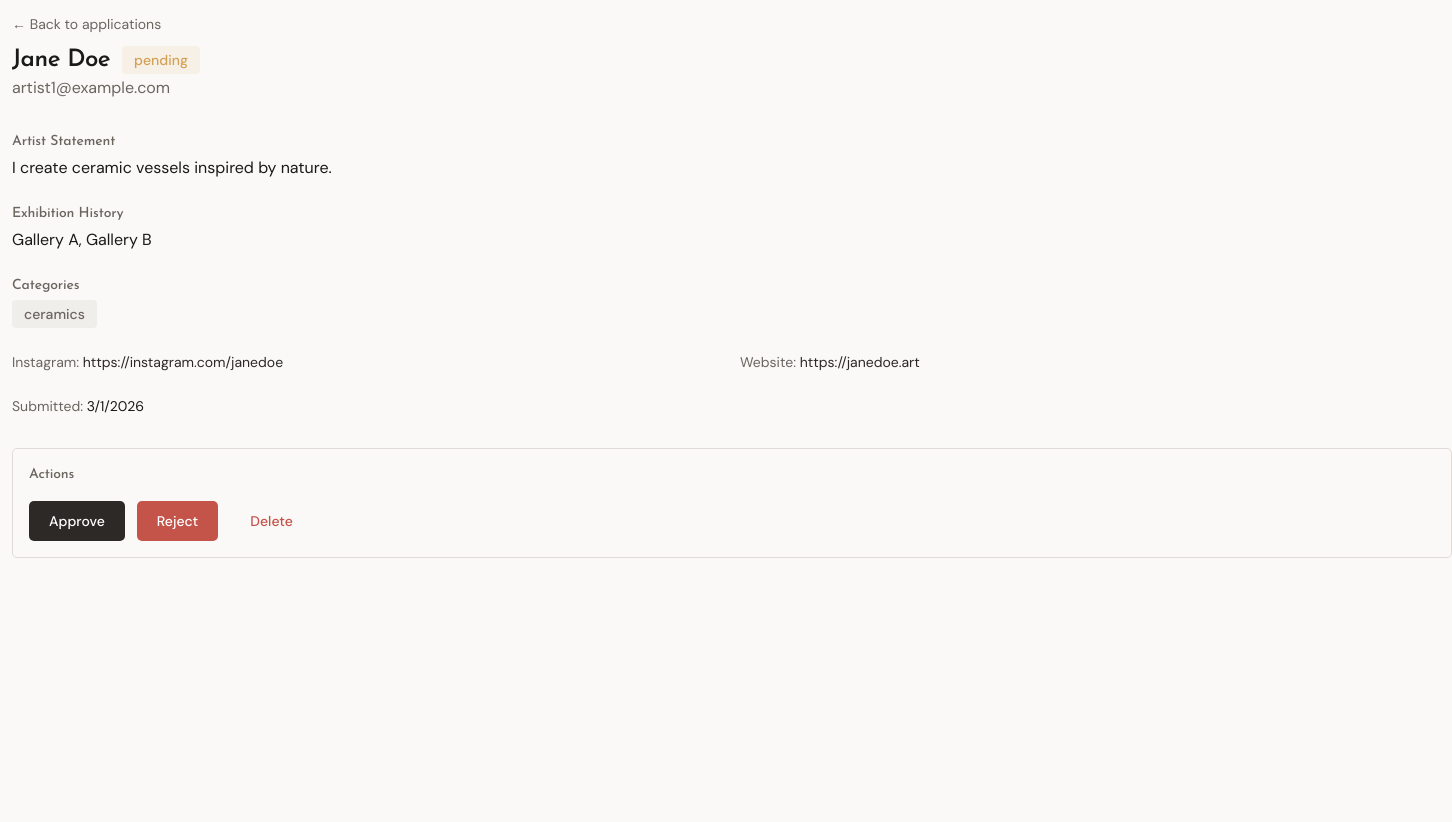
AdminApplicationDetail › shows error when applicant has no user account
Click the button with test id "approve-btn".
click(77, 521)  # box [29,501,125,541]
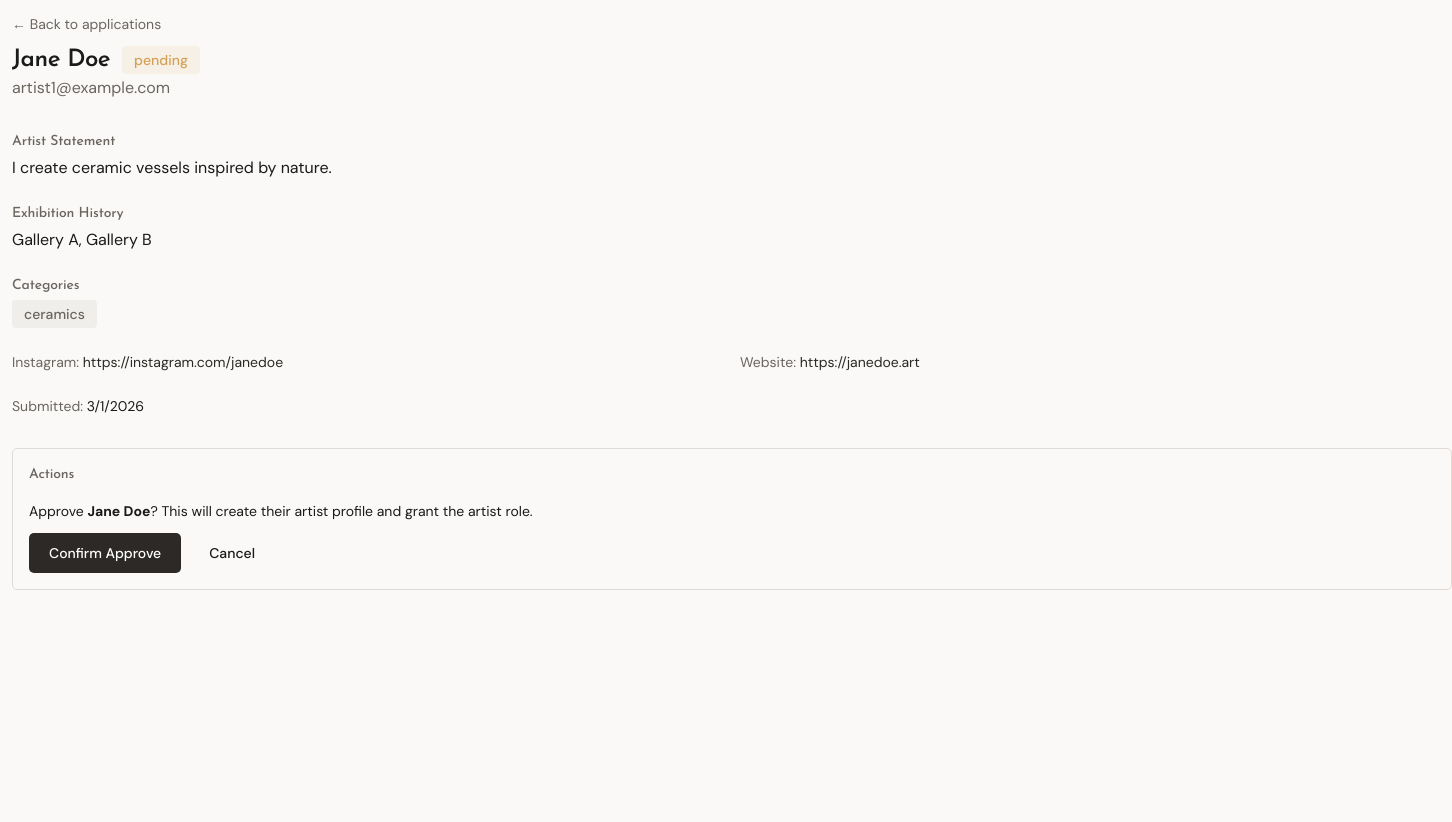
Expected: the button with test id "confirm-approve-btn" is shown
Click the button with test id "confirm-approve-btn".
click(105, 553)  # box [29,533,181,573]
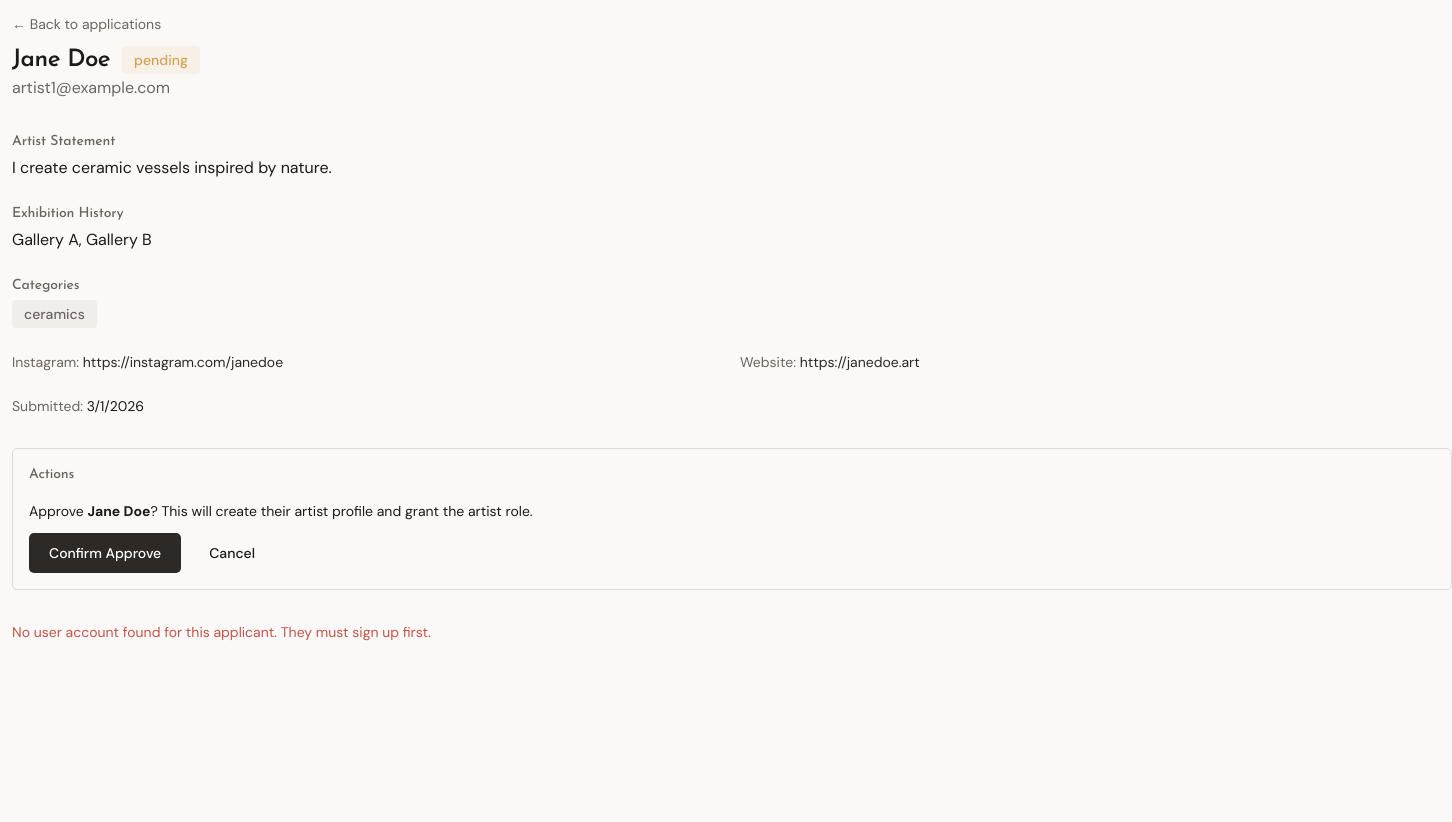
Expected: the text with test id "action-error" is shown, [12,623,431,641]
